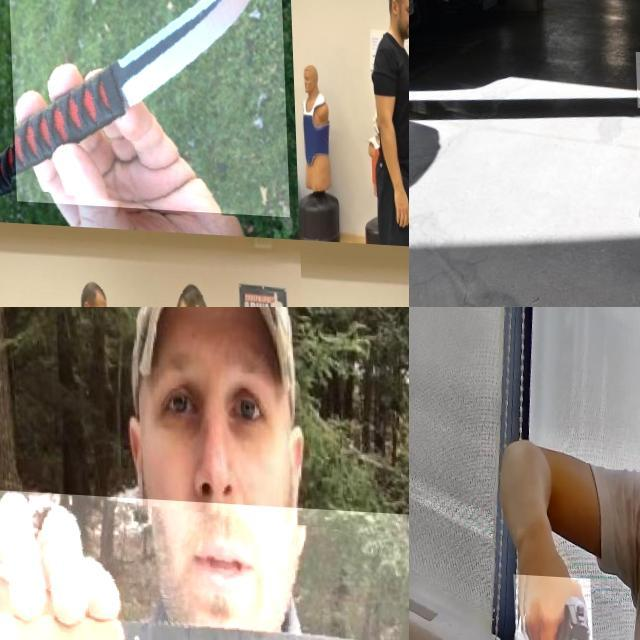-: (0, 485, 409, 640), (6, 0, 287, 213), (633, 48, 640, 104)
gun-knife-thesis - v11 Yolov5 augmented: (510, 570, 593, 640)
